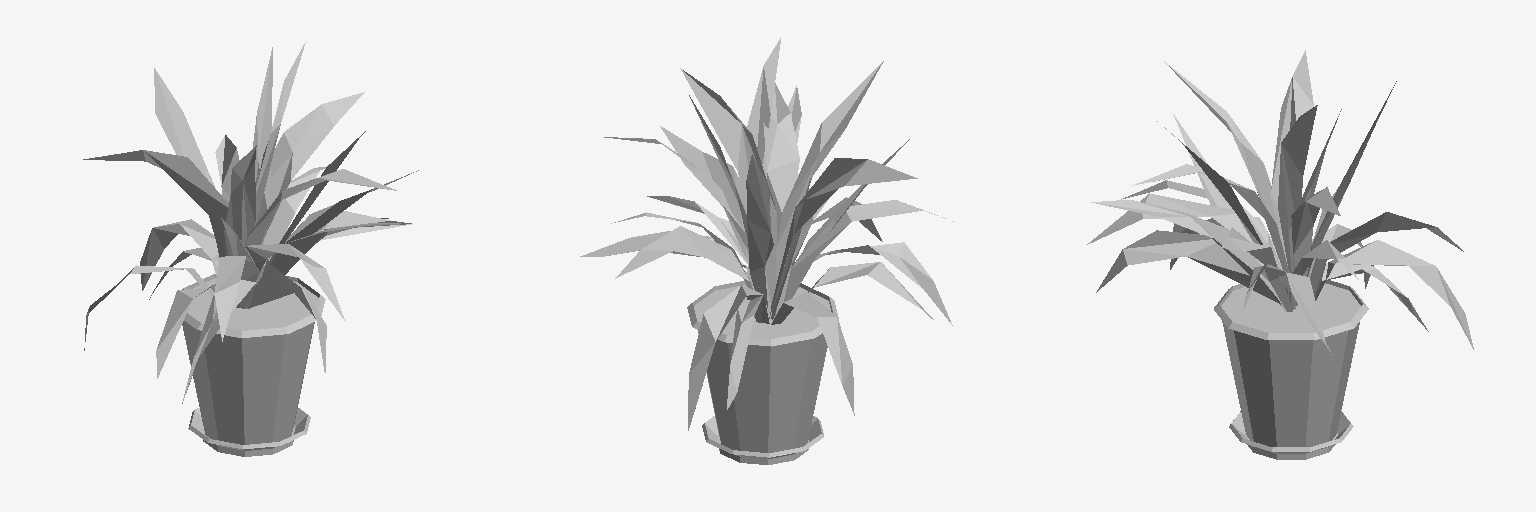
File: HousePlant03.obj
The picture shows the model from 3 angles: view 1: azimuth 30°, elevation 25°; view 2: azimuth 150°, elevation 25°; view 3: azimuth 270°, elevation 25°; orthographic projection.
Parts seen in each view (by area): view 1: HousePlant03_LOD0_Plant3.001; view 2: HousePlant03_LOD0_Plant3.001; view 3: HousePlant03_LOD0_Plant3.001.
Part boxes in pixels (x1,y1,x2,y2): HousePlant03_LOD0_Plant3.001: (83,42,418,456); HousePlant03_LOD0_Plant3.001: (580,38,953,464); HousePlant03_LOD0_Plant3.001: (1087,50,1473,459).
Bounding box in the file's own units: 0.613 × 0.6665 × 0.6338.